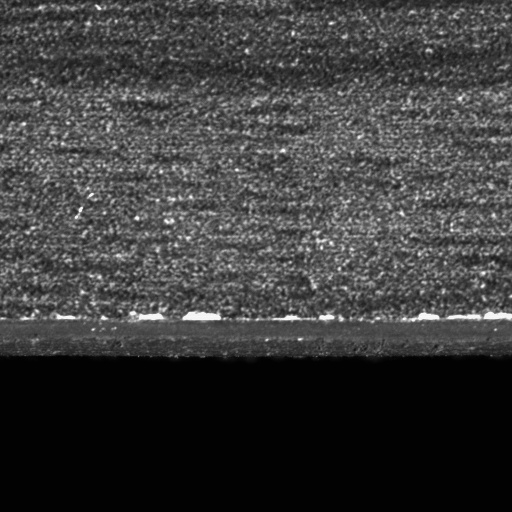huashang: (417, 310, 511, 319), (172, 310, 221, 322), (136, 312, 167, 321)
